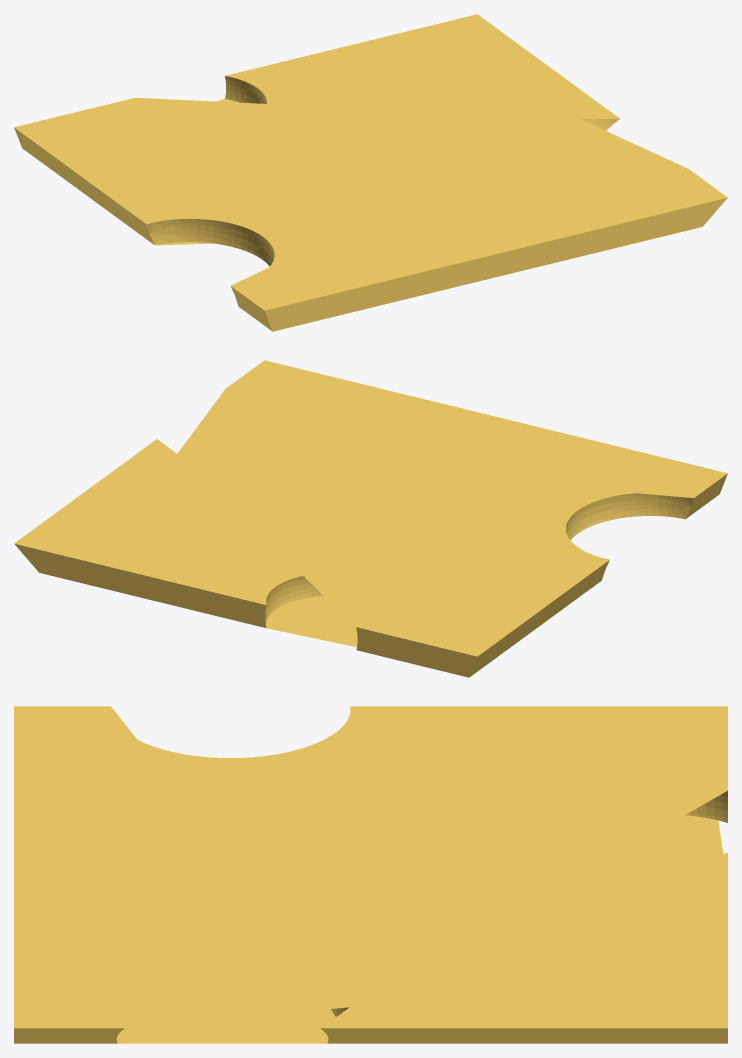
The model's file is Sliced cheese.fbx.
The picture shows the model from 3 angles, top to bottom: view 1: azimuth 30°, elevation 25°; view 2: azimuth 150°, elevation 25°; view 3: azimuth 270°, elevation 25°; orthographic projection. The views are drawn at different scales.
Visible parts, largest first — view 1: Sliced cheese; view 2: Sliced cheese; view 3: Sliced cheese.
Part boxes in pixels (x1=…): Sliced cheese: x1=14, y1=14, x2=727, y2=331; Sliced cheese: x1=14, y1=360, x2=727, y2=677; Sliced cheese: x1=14, y1=706, x2=727, y2=1043.
Size of the model in its own units: 21.36 by 1.02 by 20.
